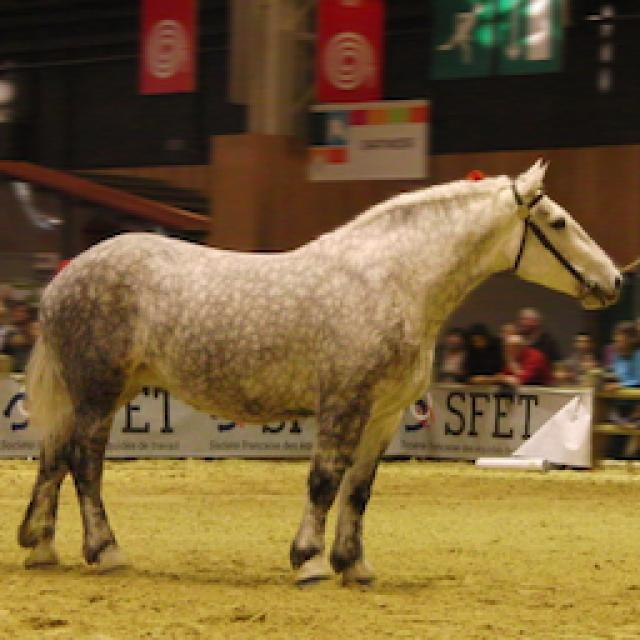Horse: (8, 150, 630, 592)
